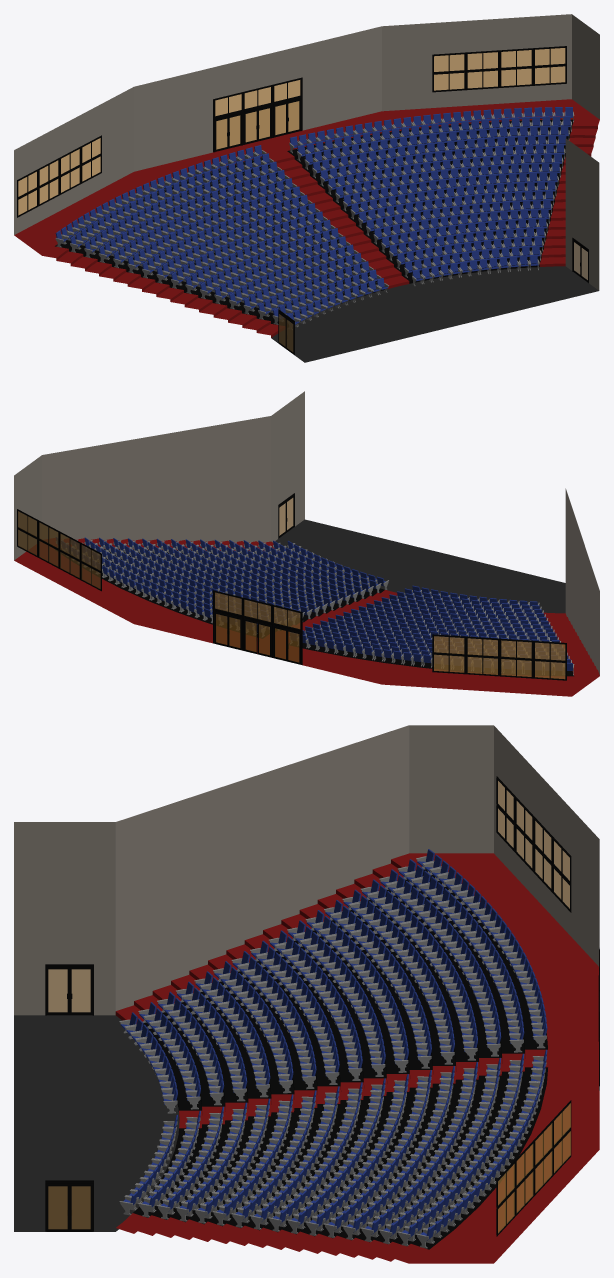
Rendered from auditorium_test_1.glb.
3 views of the same model, one above another, from view 1: azimuth 30°, elevation 25°; view 2: azimuth 150°, elevation 25°; view 3: azimuth 270°, elevation 25° (orthographic). The views are drawn at different scales.
Parts seen in each view (by area): view 1: Material3 (×8), Material2 (×5); view 2: Material3 (×8), Material2 (×4); view 3: Material3 (×8), Material2 (×4).
Boxes of the visible parts, x1,y1,x2,y2 form: Material3 (×8): (14,14,599,337); Material2 (×5): (17,46,598,362); Material3 (×8): (14,391,599,696); Material2 (×4): (17,493,566,680); Material3 (×8): (14,725,599,1263); Material2 (×4): (14,776,599,1236).
Bounding box in the file's own units: 13.66 × 3 × 8.24.
